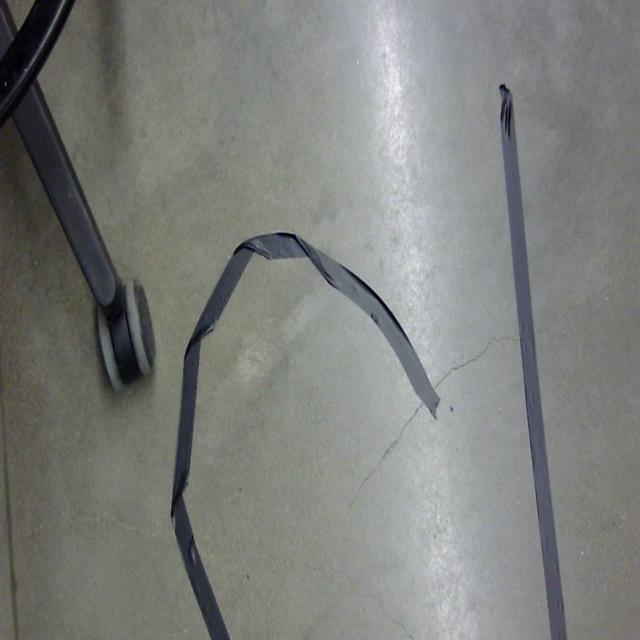tape: (169, 229, 441, 638), (498, 75, 569, 640)
